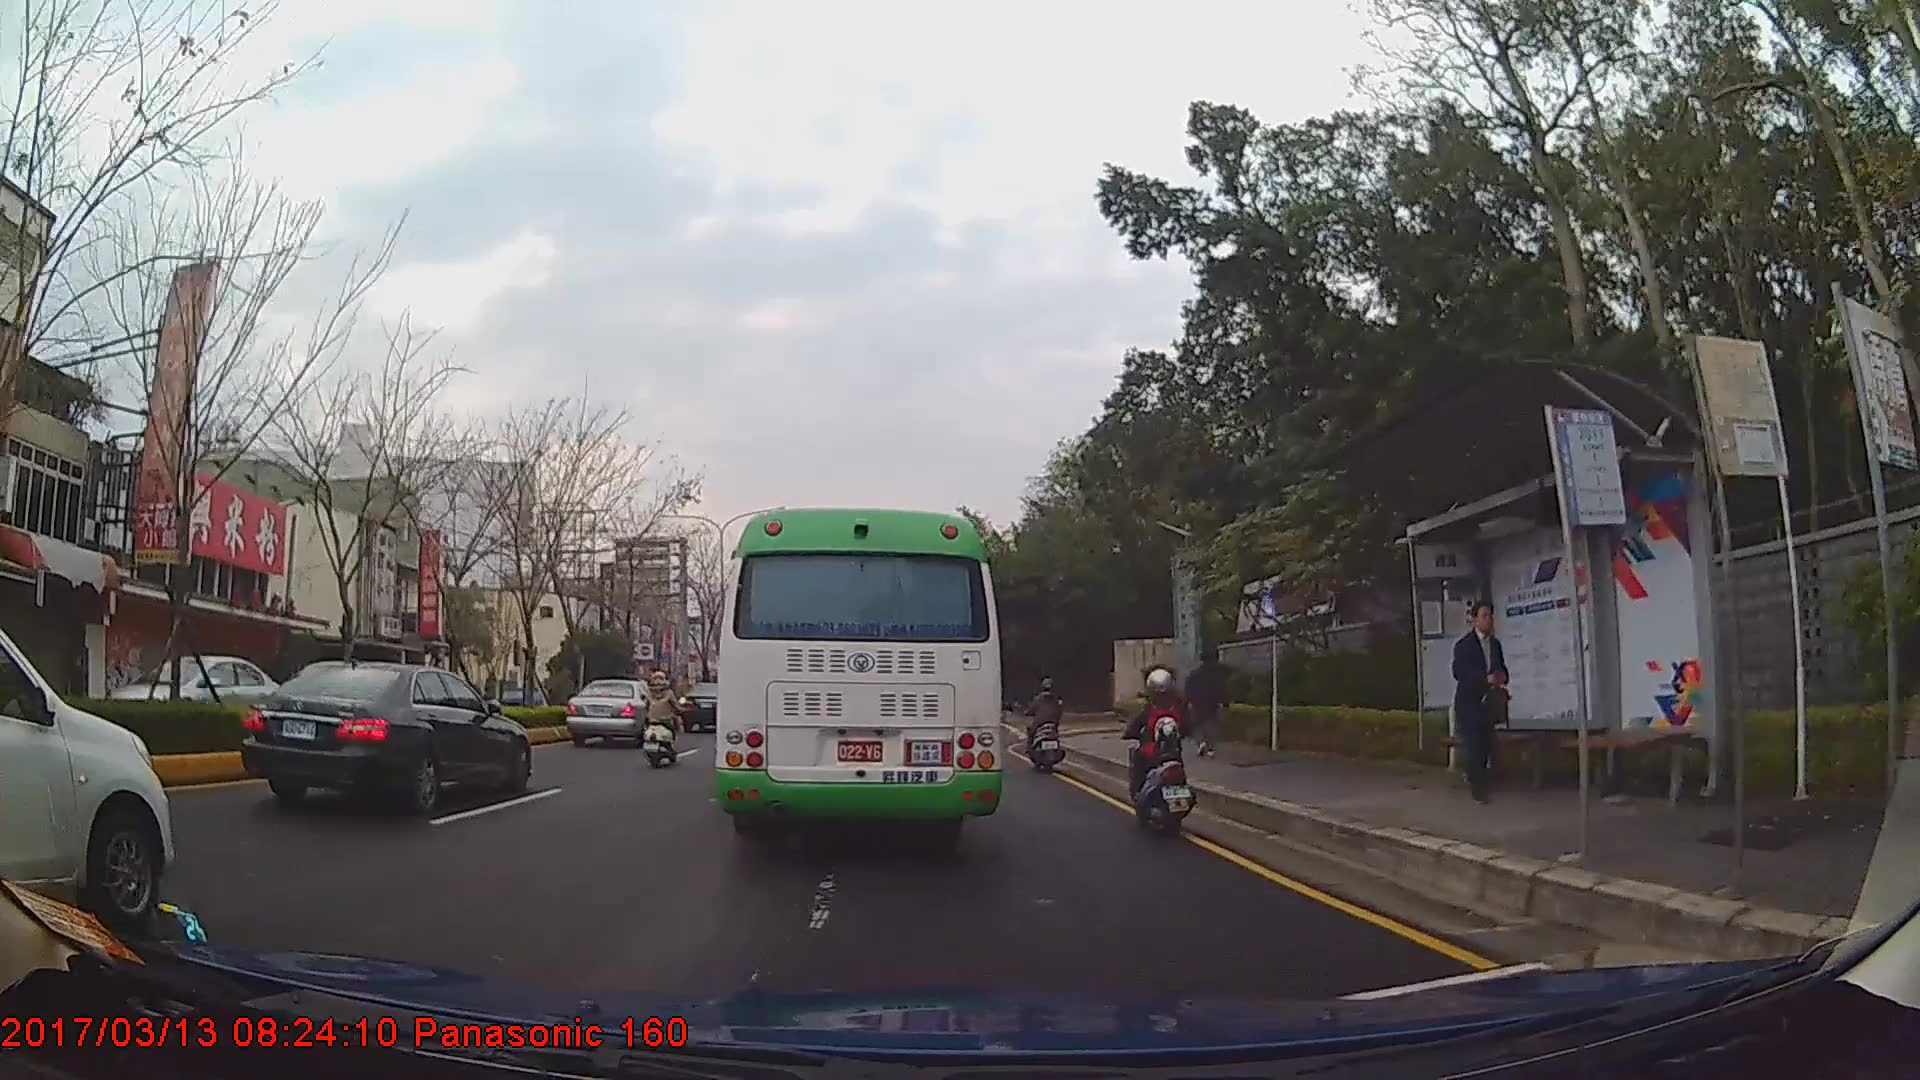pedestrian: (1452, 593, 1522, 802), (1175, 644, 1228, 757)
rider: (1119, 663, 1198, 831), (1023, 670, 1068, 772), (645, 670, 682, 763)
vehicle: (713, 506, 998, 849), (0, 601, 173, 927), (239, 656, 531, 808), (98, 644, 288, 744), (566, 678, 661, 747), (678, 680, 742, 733)
